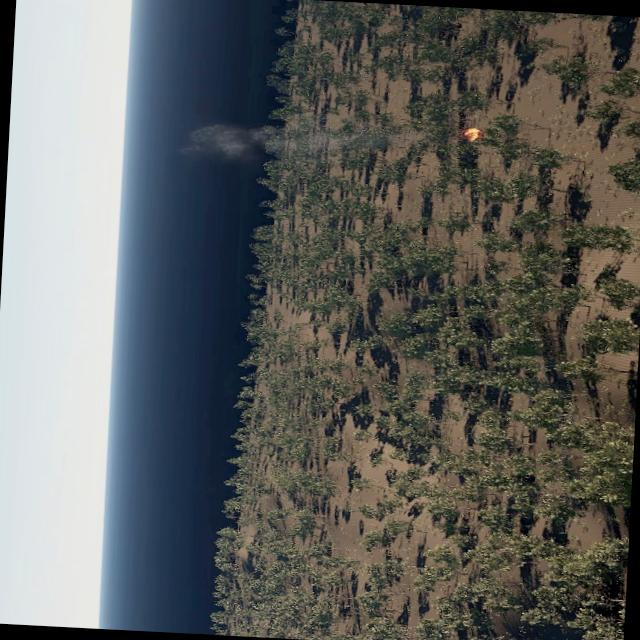fire: (465, 126, 480, 140)
smoke: (180, 115, 392, 172)
